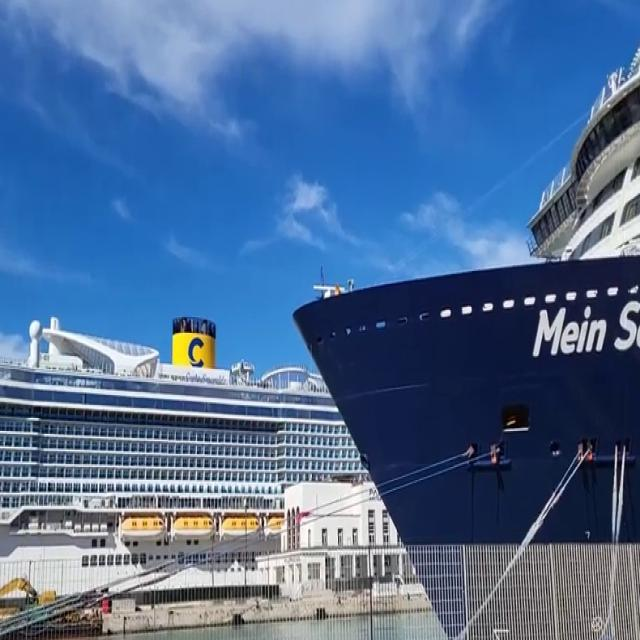passenger ship: (343, 102, 640, 640), (0, 301, 358, 601)
